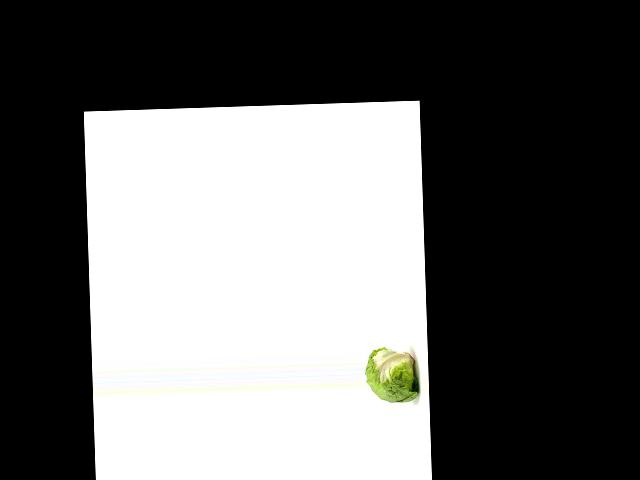lettuce: (364, 345, 422, 405)
